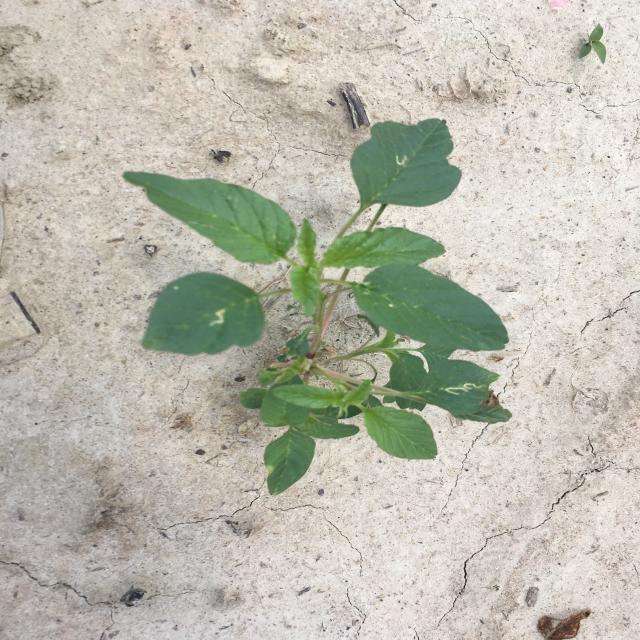PalmerAmaranth: (122, 118, 510, 497)
